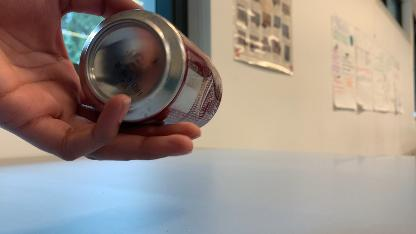Can: (72, 9, 226, 132)
